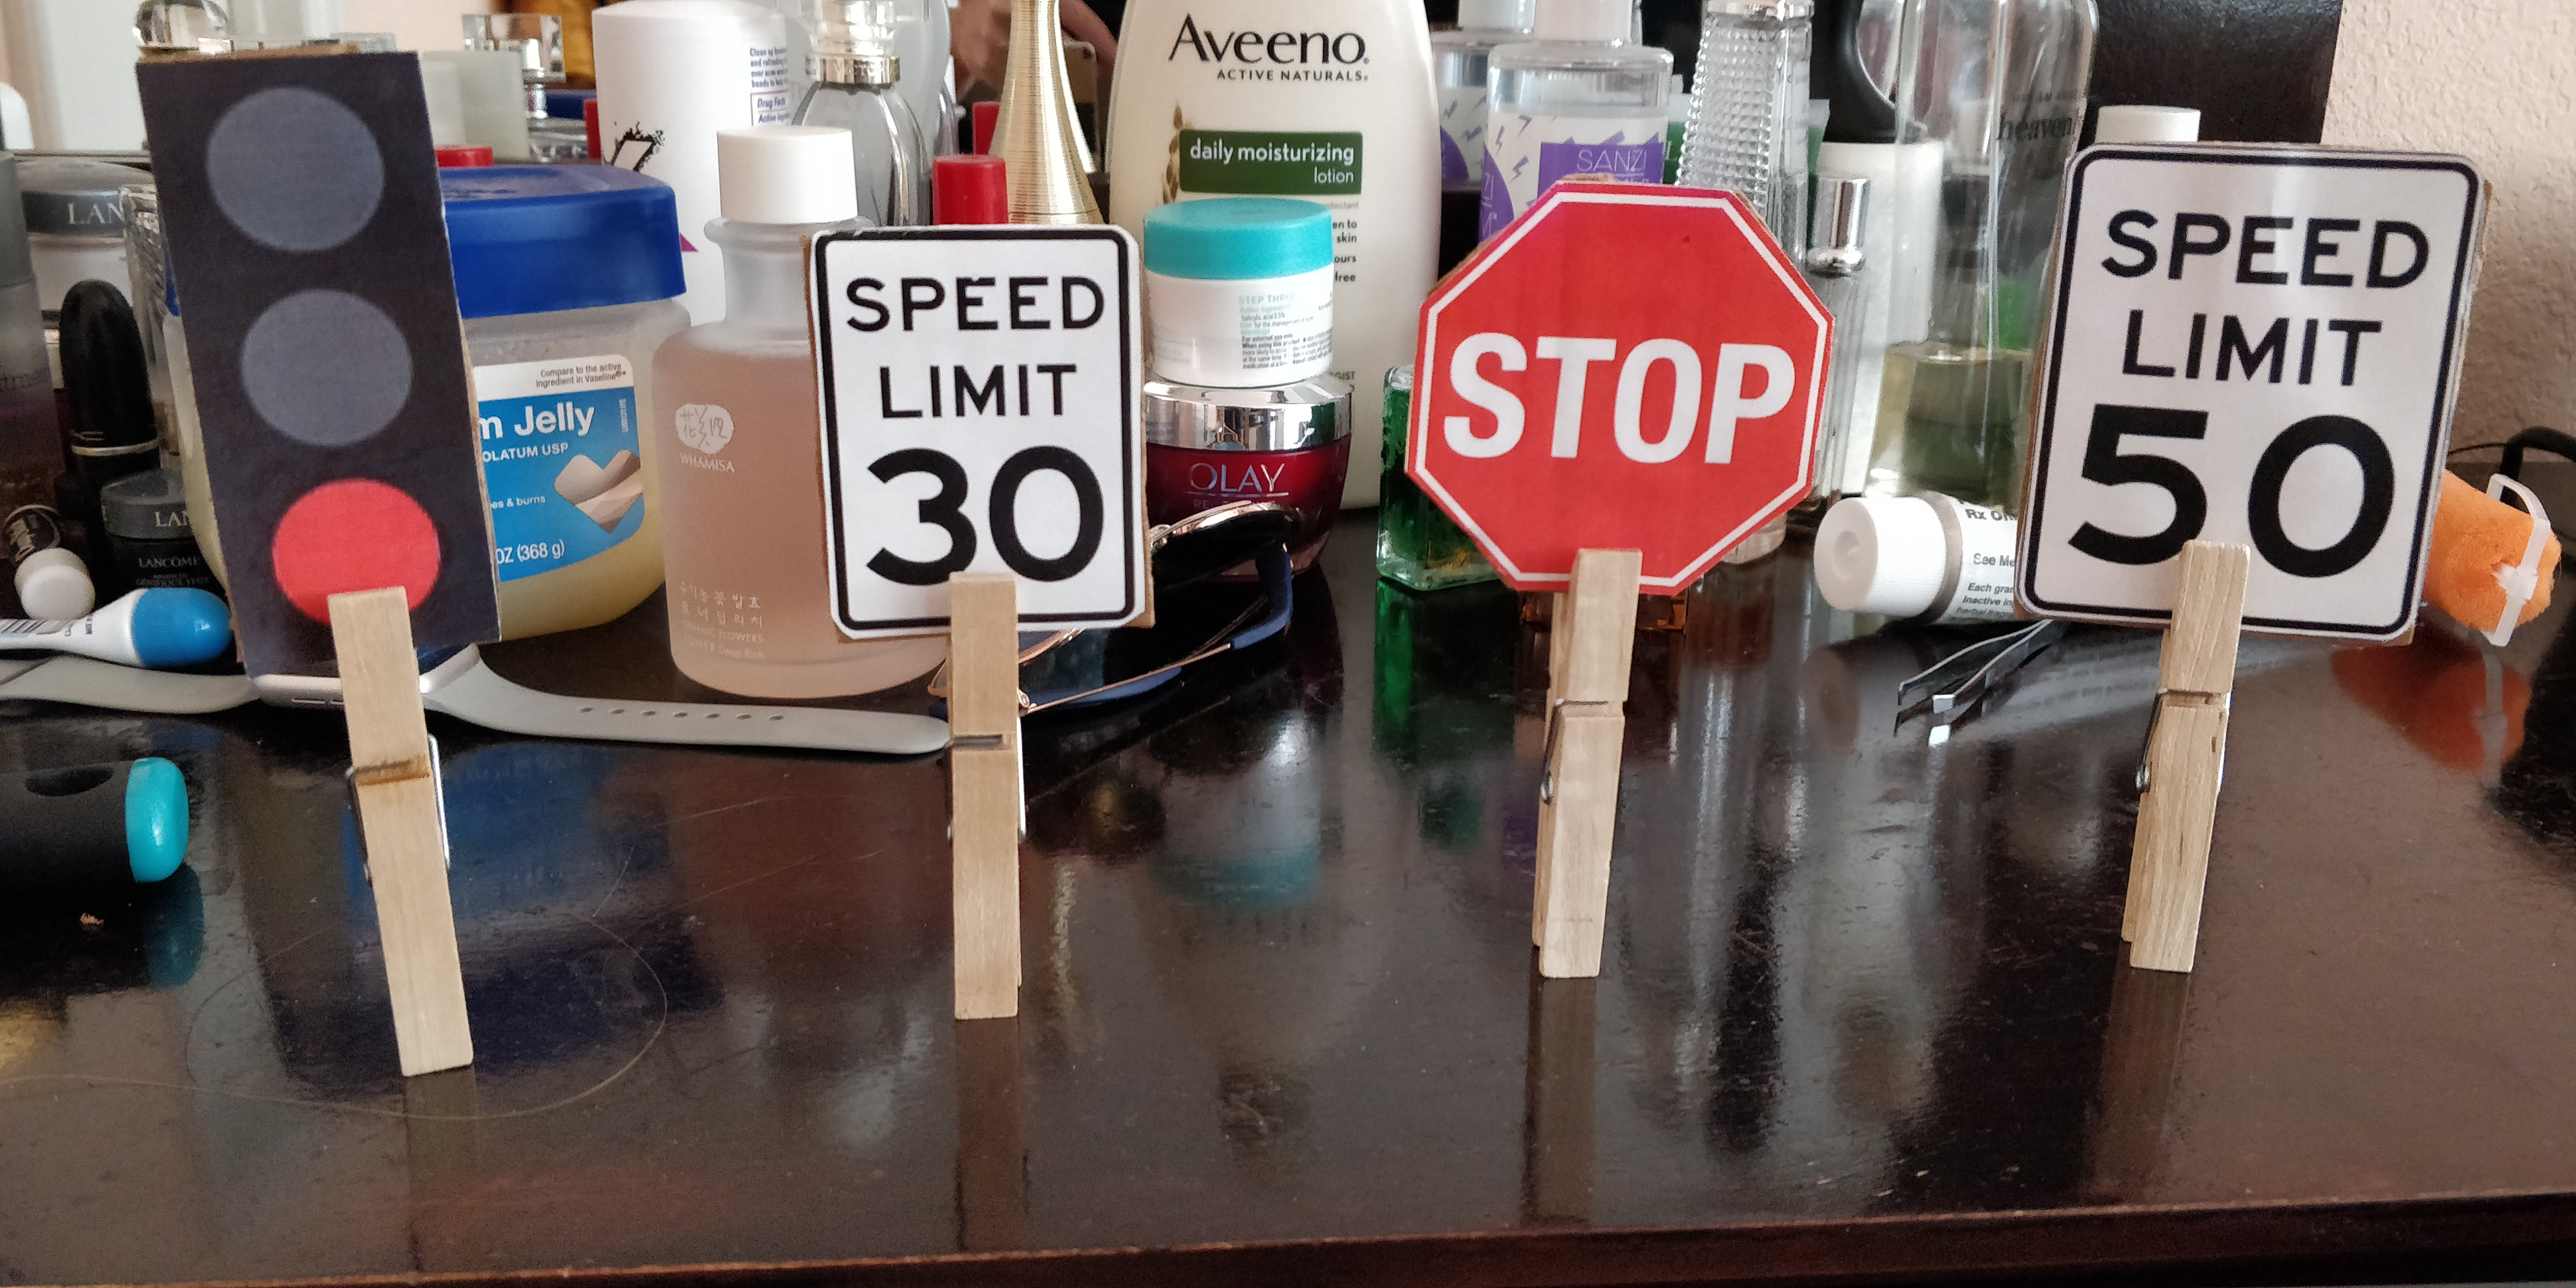Speed Limit 30: (813, 223, 1147, 642)
Speed Limit 50: (2014, 148, 2486, 644)
Stop Sign: (1401, 174, 1830, 596)
red light: (138, 48, 499, 665)
